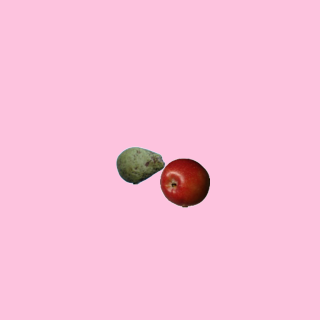Apple Braeburn: (159, 157, 209, 207)
Pear Stone: (115, 140, 165, 190)
